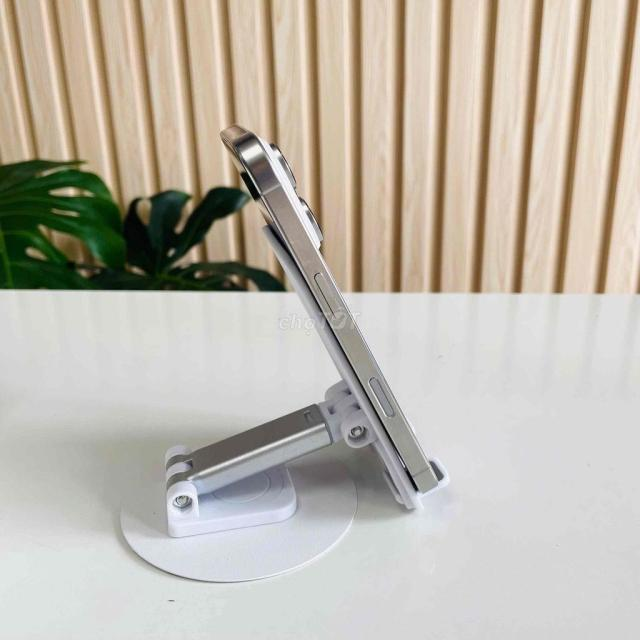gen_16: (214, 107, 456, 505)
